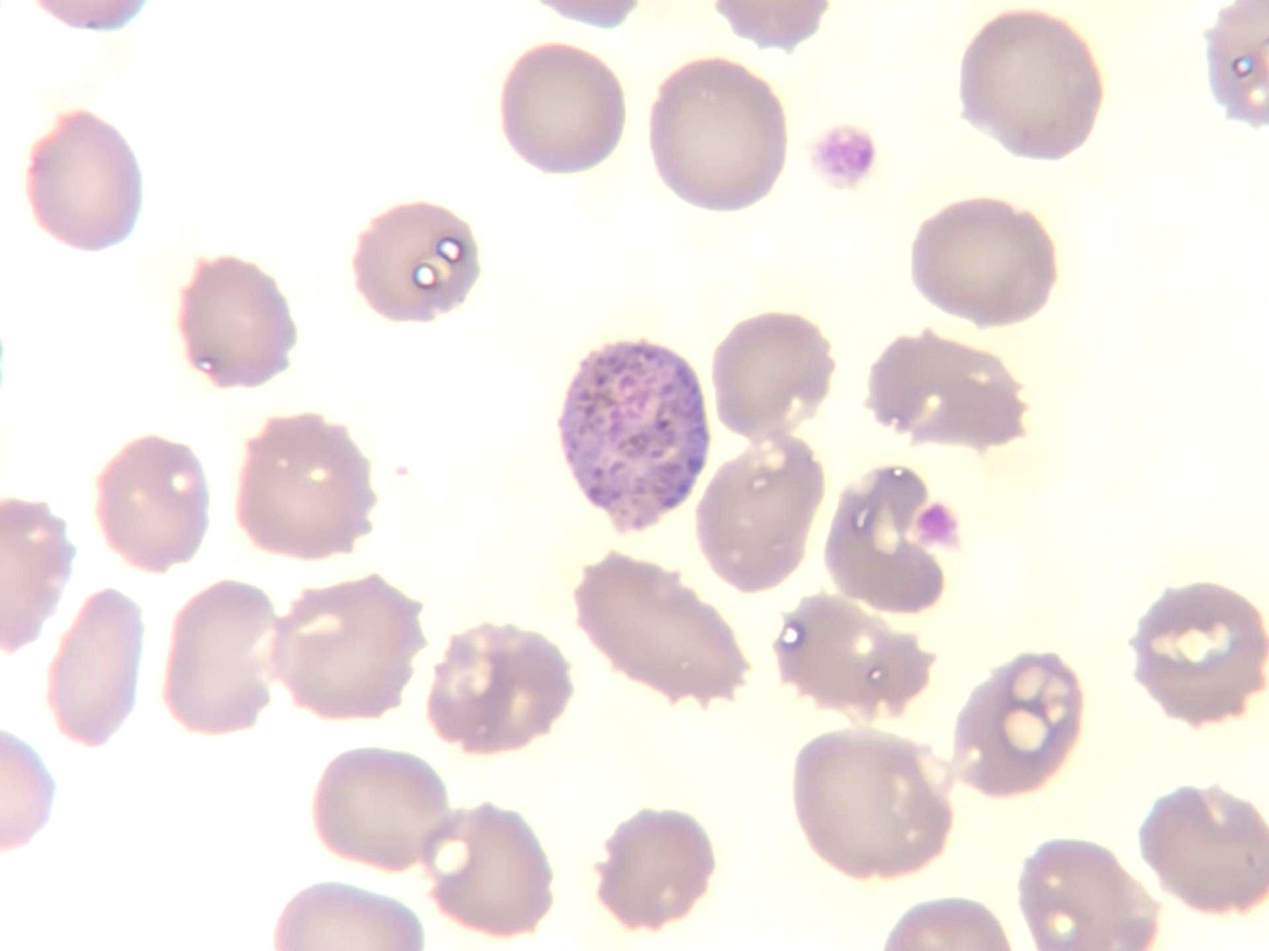Infected: (560, 336, 705, 537)
Uninfected: (568, 551, 743, 706), (800, 732, 961, 878), (648, 54, 789, 215), (956, 10, 1102, 162), (1135, 576, 1269, 733), (776, 587, 928, 725), (231, 408, 367, 556), (280, 569, 420, 712), (912, 190, 1056, 327), (694, 444, 821, 597), (824, 463, 956, 608), (864, 331, 1024, 448), (423, 629, 570, 756), (950, 651, 1077, 796), (1143, 776, 1269, 919), (163, 578, 276, 737), (502, 40, 630, 176), (22, 102, 137, 252), (352, 199, 483, 329), (707, 307, 828, 446), (177, 254, 295, 396), (427, 809, 551, 944), (95, 430, 209, 574), (313, 745, 442, 869), (1022, 833, 1153, 951), (48, 593, 140, 749), (597, 805, 709, 932)
